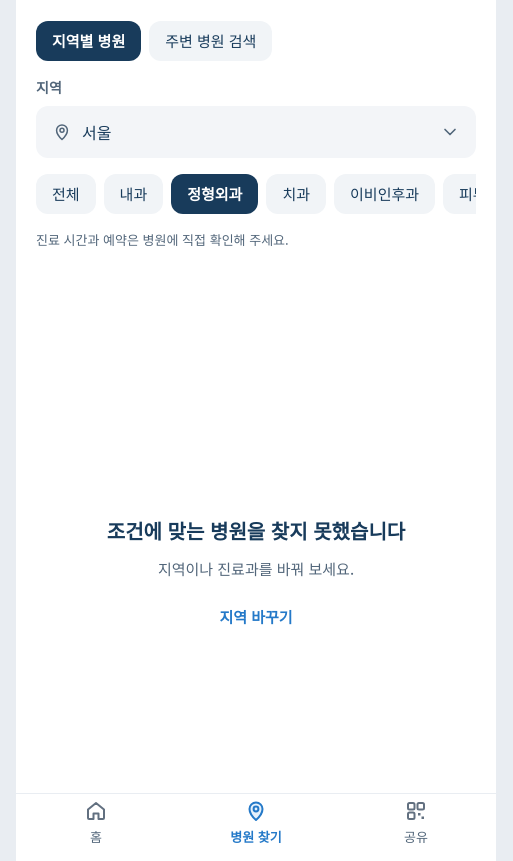
Test case: 체험 위치로 접수·조회하고 반환된 병원과 각각의 경로를 표시한다
This screenshot has width=513, height=861.
Expected: the text "조건에 맞는 병원을 찾지 못했습니다" is shown, [107,517,405,545]
Click the radio button labelled "주변 병원 검색" at (211, 41), box [149,21,272,61]
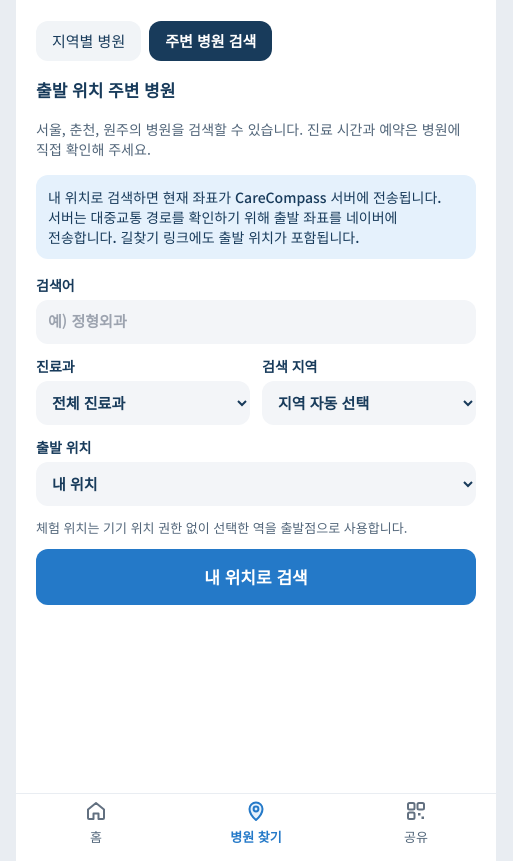
Type "정형외과" into the search field labelled "검색어" at (256, 322), box [36,300,476,344]
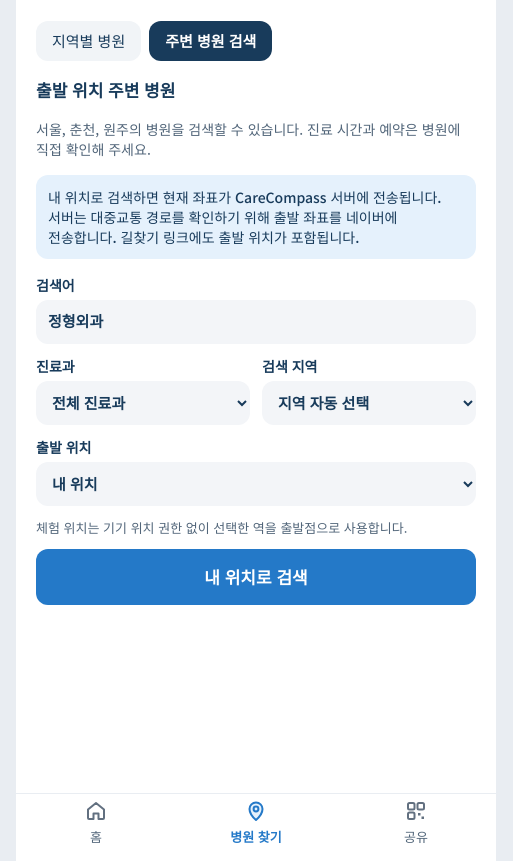
Select "체험 위치 · 서울역" in the dropdown labelled "출발 위치" at (256, 484), box [36,462,476,506]
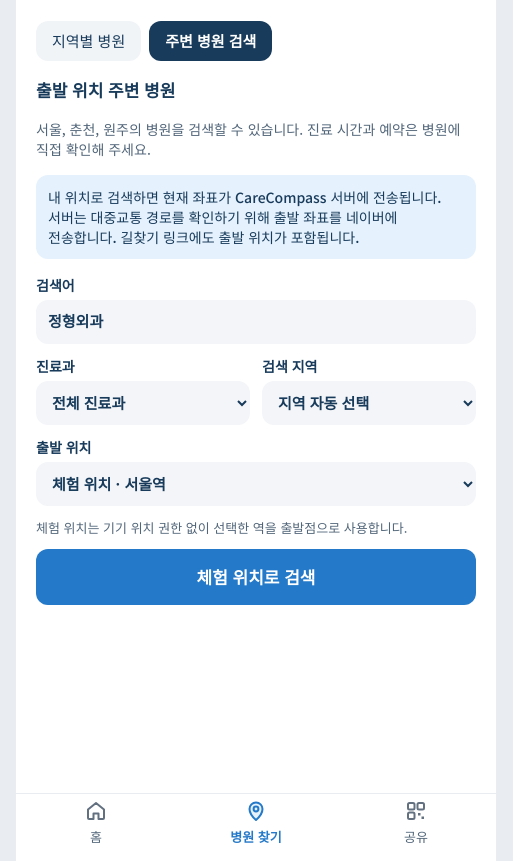
Select "정형외과" in the dropdown labelled "진료과" at (143, 402), box [36,380,250,424]
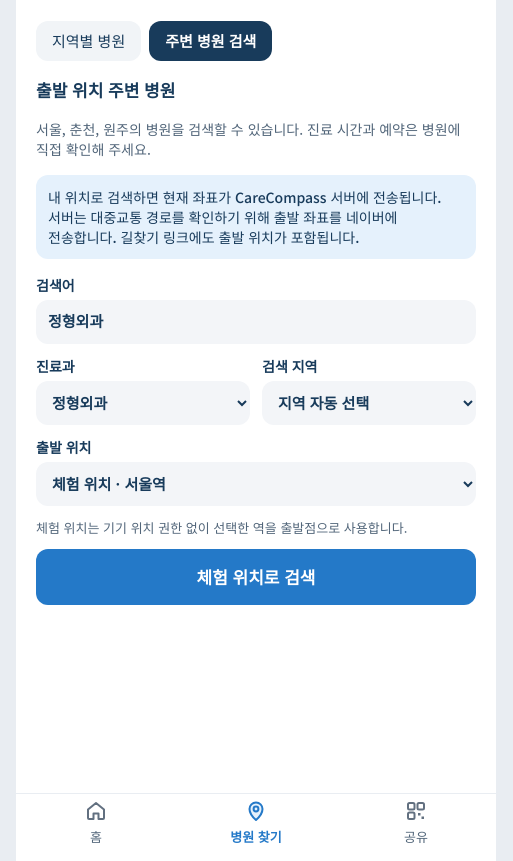
Click the button "체험 위치로 검색" at (256, 577), box [36,549,476,605]
(page scrolled)
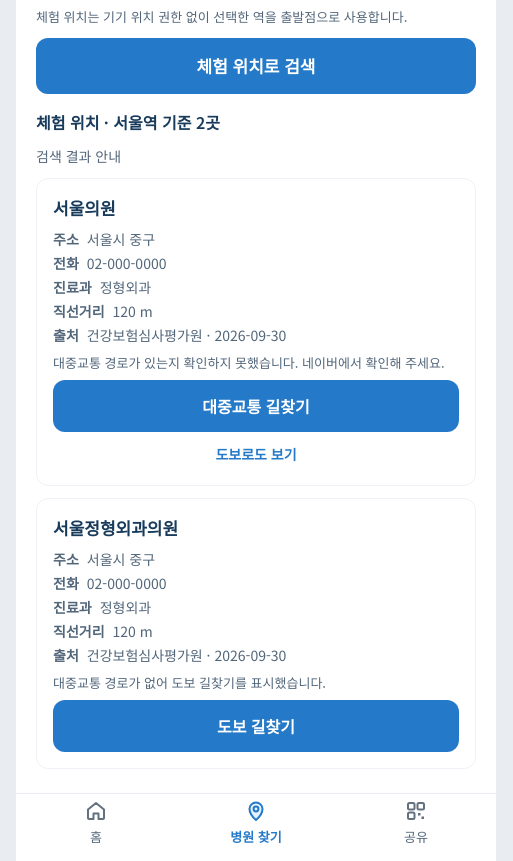
Expected: the text "대중교통 경로가 있는지 확인하지 못했습니다. 네이버에서 확인해 주세요." is shown, [53,352,459,372]
Expected: the text "120 m" below "서울의원" is shown, [112,300,153,320]
Expected: the text "건강보험심사평가원 · 2026-09-30" below "서울의원" is shown, [87,324,286,344]
